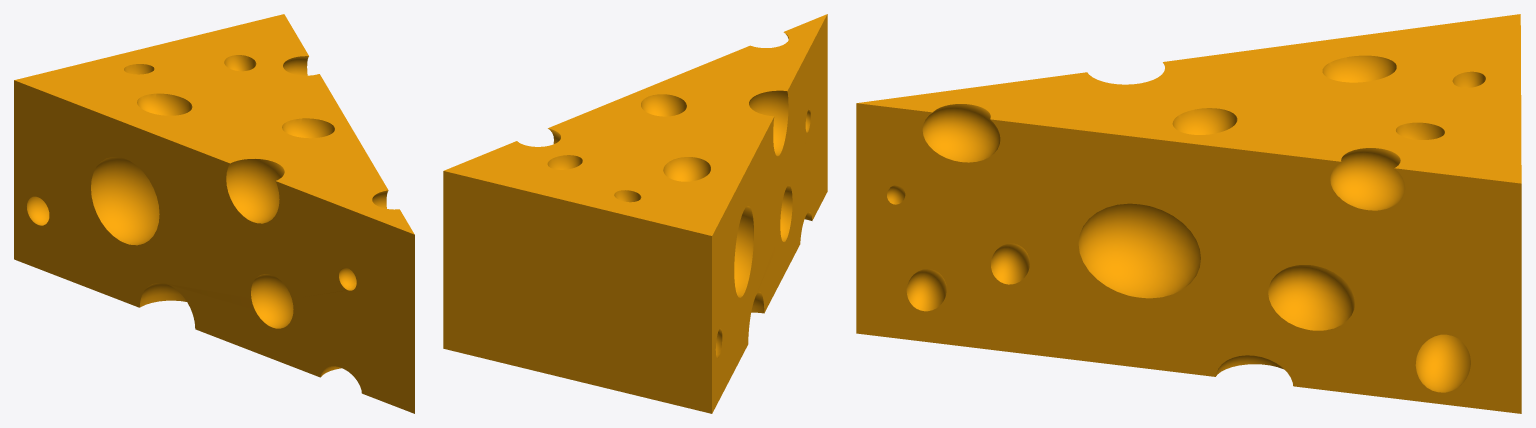
File: Cheese.FBX
3 views of the same model, side by side, from view 1: azimuth 30°, elevation 25°; view 2: azimuth 150°, elevation 25°; view 3: azimuth 270°, elevation 25° (orthographic). The views are drawn at different scales.
Visible parts, largest first — view 1: Line001; view 2: Line001; view 3: Line001.
Part boxes in pixels (<box>): Line001: <box>14,14,414,413</box>; Line001: <box>443,14,827,413</box>; Line001: <box>856,14,1521,413</box>.
Bounding box in the file's own units: 7.12 × 4.51 × 11.81.
